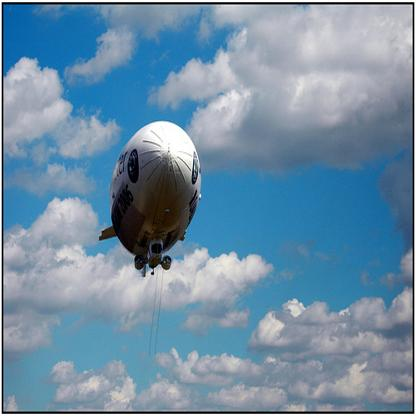Airship: (95, 119, 211, 284)
